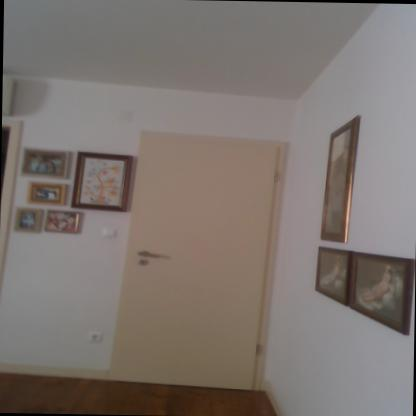closed: (122, 125, 294, 396)
